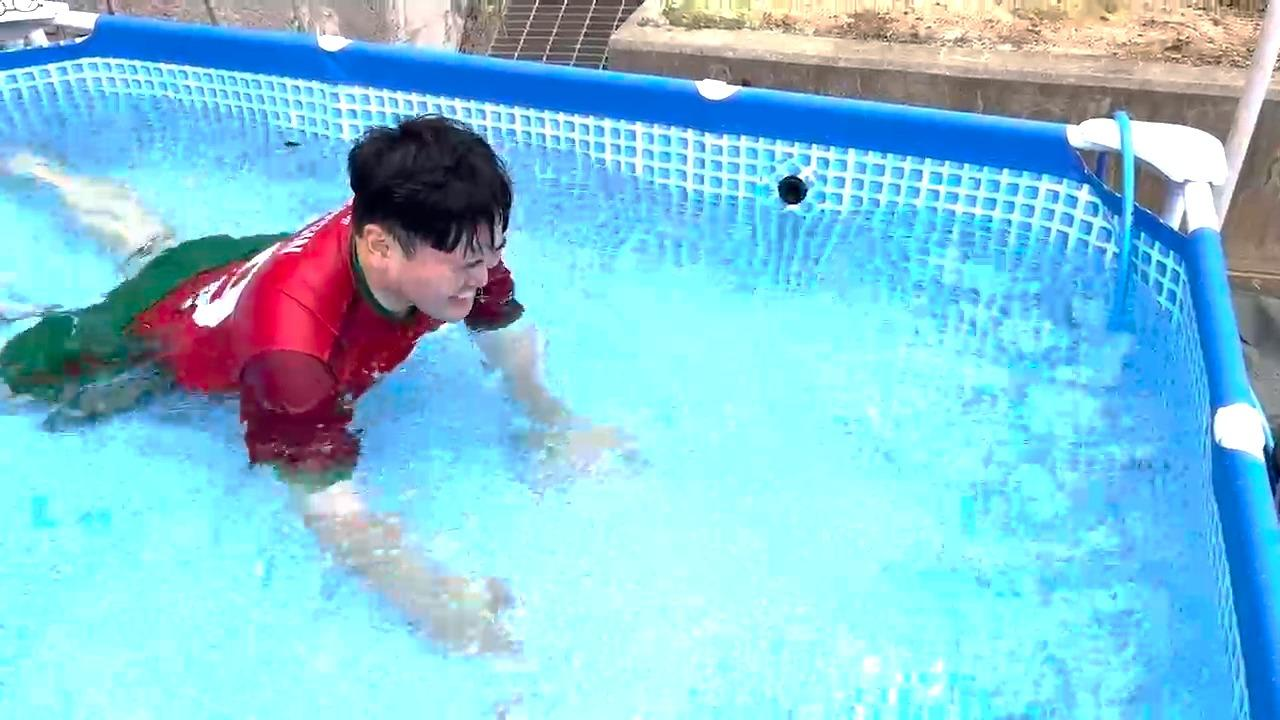Drowning: (4, 25, 695, 608)
